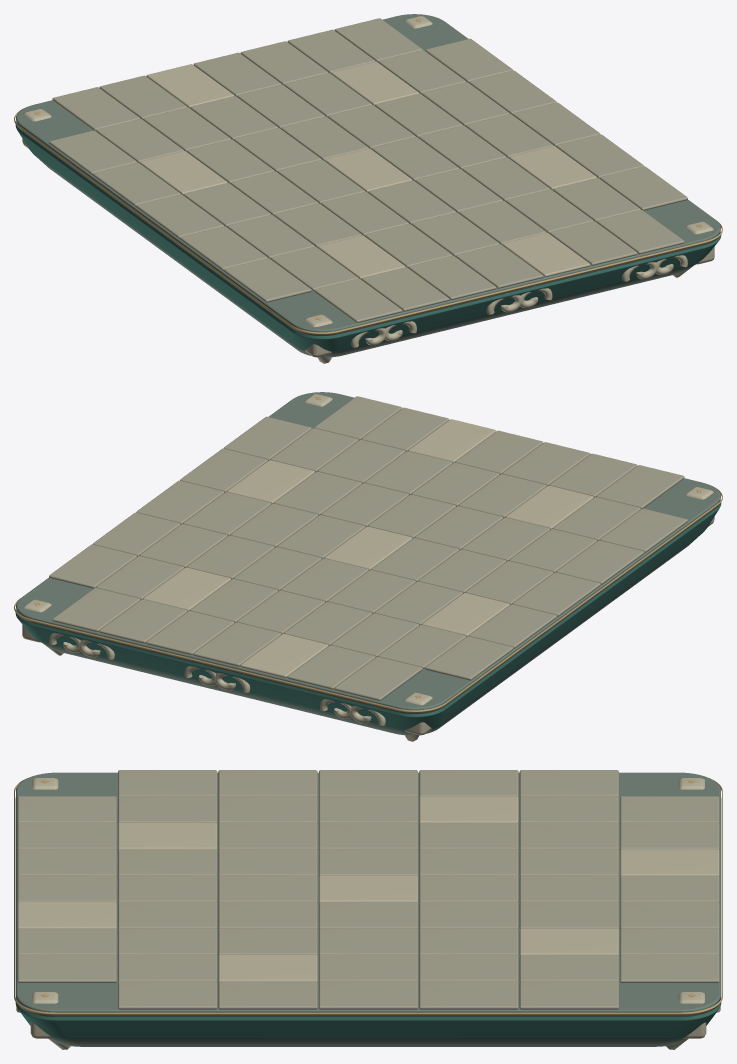
The model's file is chapter_terrace_1_1_atelier.glb.
The picture shows the model from 3 angles, top to bottom: view 1: azimuth 30°, elevation 25°; view 2: azimuth 150°, elevation 25°; view 3: azimuth 270°, elevation 25°; orthographic projection. The views are drawn at different scales.
Visible parts, largest first — view 1: chapter_terrace_1_1_atelier__TaggedPainted_chapter_terrace_1, chapter_terrace_1_1_atelier__Painted_chapter_terrace_1_1_ate (×2); view 2: chapter_terrace_1_1_atelier__TaggedPainted_chapter_terrace_1, chapter_terrace_1_1_atelier__Painted_chapter_terrace_1_1_ate (×2); view 3: chapter_terrace_1_1_atelier__TaggedPainted_chapter_terrace_1, chapter_terrace_1_1_atelier__Painted_chapter_terrace_1_1_ate (×2).
Boxes of the visible parts, <box> form: chapter_terrace_1_1_atelier__TaggedPainted_chapter_terrace_1: <box>16,14,720,363</box>; chapter_terrace_1_1_atelier__Painted_chapter_terrace_1_1_ate (×2): <box>14,18,722,352</box>; chapter_terrace_1_1_atelier__TaggedPainted_chapter_terrace_1: <box>16,392,720,741</box>; chapter_terrace_1_1_atelier__Painted_chapter_terrace_1_1_ate (×2): <box>14,396,722,730</box>; chapter_terrace_1_1_atelier__TaggedPainted_chapter_terrace_1: <box>16,770,720,1049</box>; chapter_terrace_1_1_atelier__Painted_chapter_terrace_1_1_ate (×2): <box>14,778,722,1039</box>.
Bounding box in the file's own units: 16.14 × 1.96 × 20.17.
